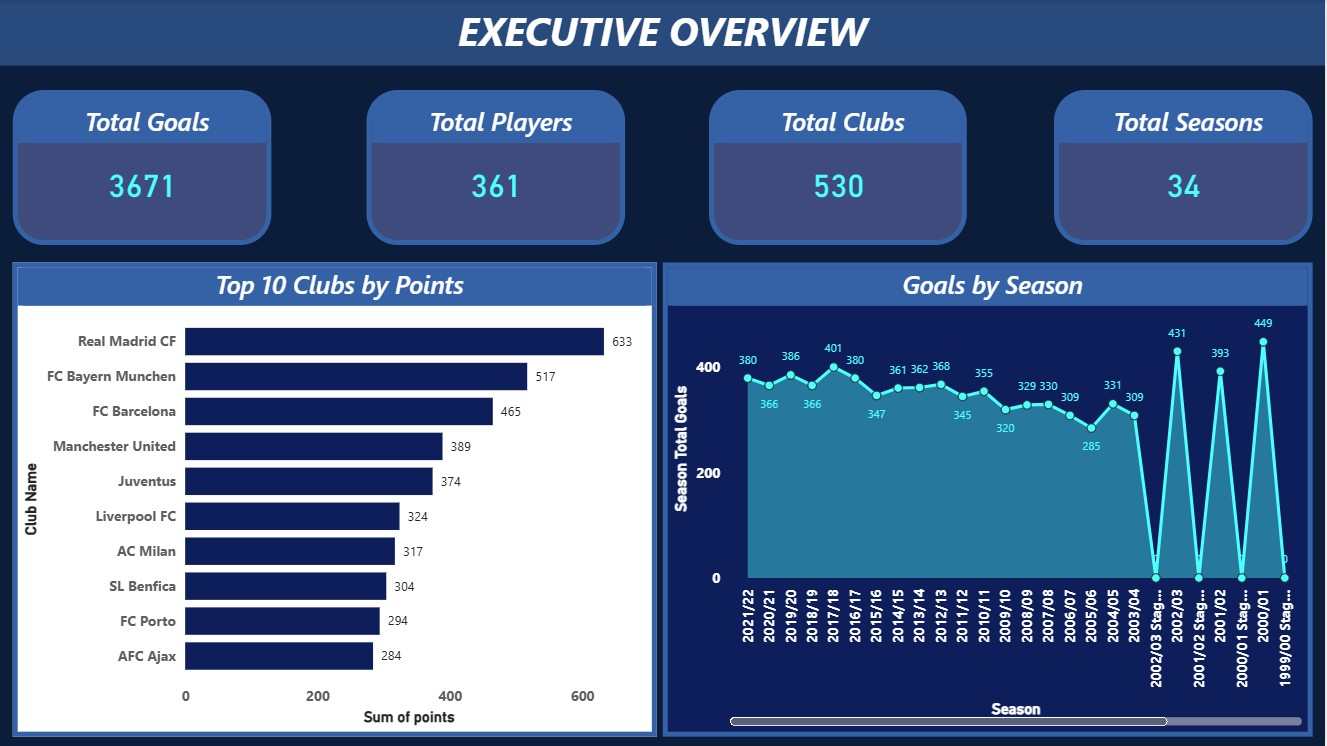

What the dashboard file says about the page in this screenshot:
{"tool":"powerbi","page":{"name":"Page 1","canvas":[1280,720],"ordinal":0},"visuals":[{"type":"card","title":"Total Goals","fields":{"Values":["ucl fact_player_goals_total.Total Goals"]},"box":[13.3,86.9,249.7,149.6],"z":2000},{"type":"card","title":"Total Seasons","fields":{"Values":["ucl dim_season.Total Seasons"]},"box":[1018.2,86.9,249.7,149.6],"z":4000},{"type":"card","title":"Total Players","fields":{"Values":["ucl dim_player.Total Players"]},"box":[354.7,86.9,249.7,149.6],"z":5000},{"type":"card","title":"Total Clubs","fields":{"Values":["ucl dim_club.Total Clubs"]},"box":[685.3,86.9,248.5,149.6],"z":6000},{"type":"clusteredBarChart","title":"Top 10 Clubs by Points","fields":{"Y":["Sum(ucl fact_club_all_time_performance.points)"],"Category":["ucl dim_club.club_name"]},"box":[13.3,253.4,621.3,457.2],"z":7000},{"type":"lineChart","title":"Goals by Season","fields":{"Category":["ucl dim_season.season"],"Y":["ucl fact_season_goal_statistics.Season Total Goals"]},"box":[640.6,253.4,627.3,457.2],"z":8000},{"type":"textbox","box":[0,0,1280.3,63.6],"z":9000}]}

Visuals, with their boxes in screenshot pixels (x1, y1, x2, y2), scaled from the page's 1280x720 canvas onto the 1327x746 screenshot:
"Total Goals" card: (left=14, top=90, right=273, bottom=245)
"Total Seasons" card: (left=1056, top=90, right=1314, bottom=245)
"Total Players" card: (left=368, top=90, right=627, bottom=245)
"Total Clubs" card: (left=710, top=90, right=968, bottom=245)
"Top 10 Clubs by Points" clusteredBarChart: (left=14, top=263, right=658, bottom=736)
"Goals by Season" lineChart: (left=664, top=263, right=1314, bottom=736)
textbox: (left=0, top=0, right=1326, bottom=66)
